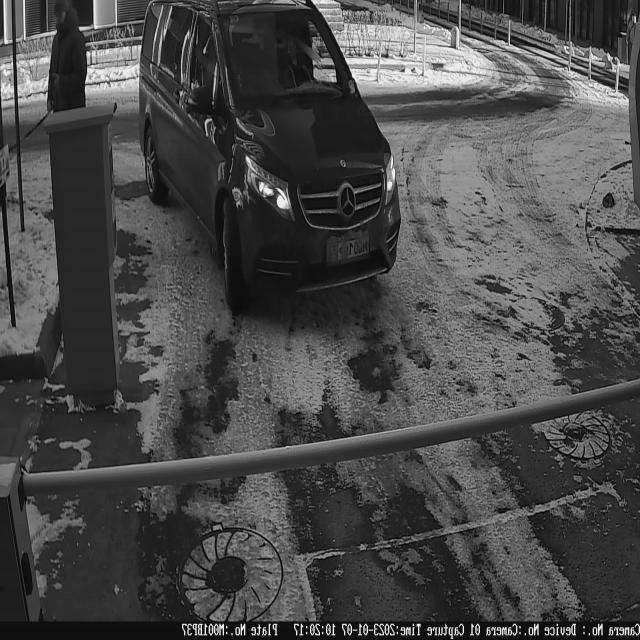car-plate-numbers: (324, 231, 376, 275)
